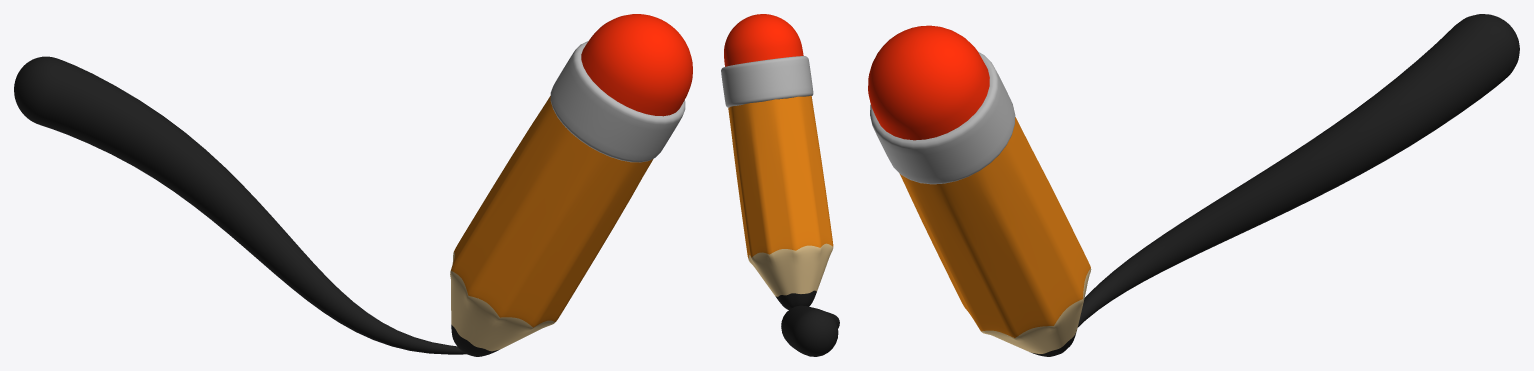
File: Copywriting.glb
3 renders of one model, left to right at view 1: azimuth 30°, elevation 25°; view 2: azimuth 150°, elevation 25°; view 3: azimuth 270°, elevation 25°, orthographic. The views are drawn at different scales.
Visible parts, largest first — view 1: Cylinder.001, BezierCurve, Cylinder; view 2: Cylinder.001, Cylinder, BezierCurve; view 3: BezierCurve, Cylinder.001, Cylinder.
Part boxes in pixels (left/top/right/bottom): Cylinder.001: left=450, top=96, right=653, bottom=356; BezierCurve: left=14, top=56, right=466, bottom=354; Cylinder: left=550, top=14, right=692, bottom=162; Cylinder.001: left=728, top=95, right=833, bottom=309; Cylinder: left=721, top=14, right=813, bottom=107; BezierCurve: left=781, top=305, right=839, bottom=356; BezierCurve: left=1077, top=14, right=1519, bottom=327; Cylinder.001: left=899, top=117, right=1091, bottom=356; Cylinder: left=868, top=25, right=1015, bottom=184.
Bounding box in the file's own units: 6.07 × 5 × 7.81.
